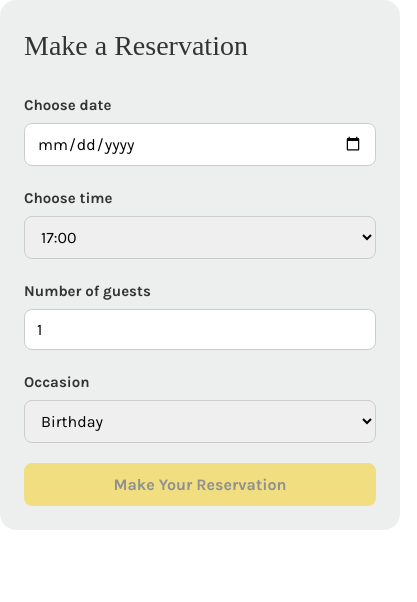
guests validation › shows error when guests is 0
Replace the text in the number field labelled "Number of guests" with "0": (200, 329) [24,309,376,350]
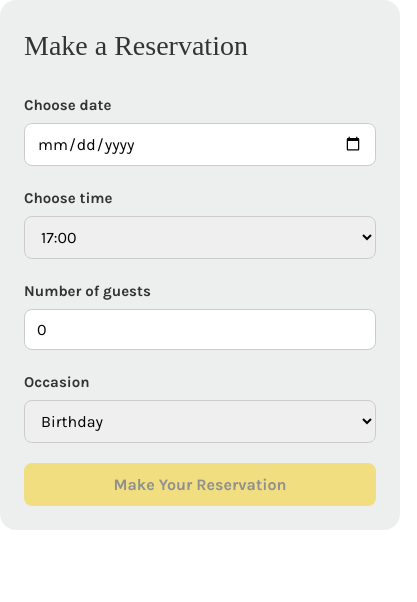
Submit the form named "reservation form"
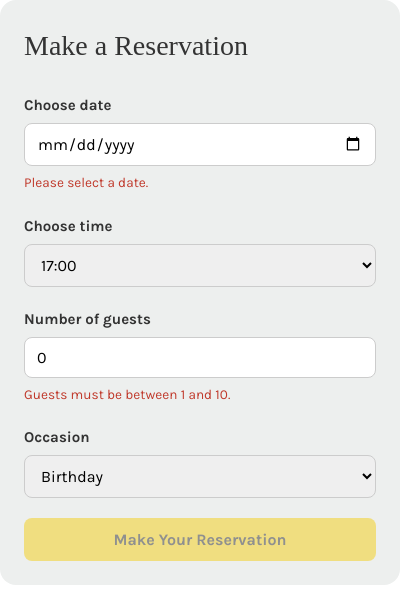
Result: the text "Guests must be between 1 and 10." is shown at [24,386,230,402]
